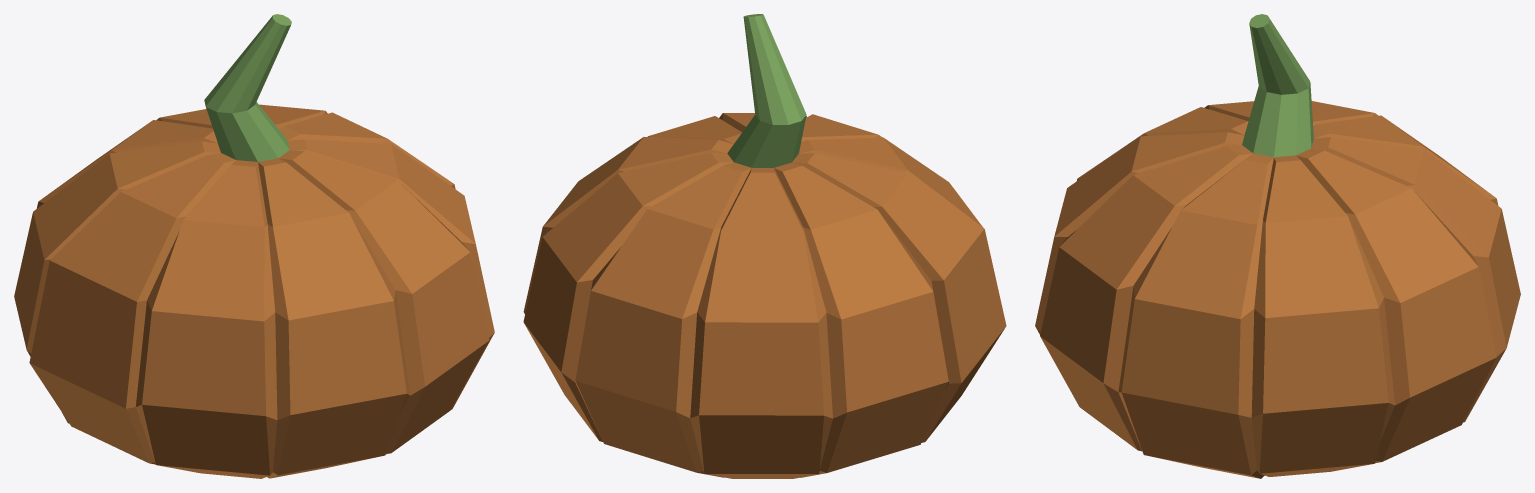
Rendered from Pumpkin_Crop.gltf.
The picture shows the model from 3 angles, left to right: view 1: azimuth 30°, elevation 25°; view 2: azimuth 150°, elevation 25°; view 3: azimuth 270°, elevation 25°; orthographic projection. The views are drawn at different scales.
Visible parts, largest first — view 1: Pumpkin_Crop; view 2: Pumpkin_Crop; view 3: Pumpkin_Crop.
Part boxes in pixels (box(x1,y1,x2,y2)): Pumpkin_Crop: box(14, 14, 494, 478); Pumpkin_Crop: box(523, 14, 1006, 478); Pumpkin_Crop: box(1035, 14, 1520, 478).
Bounding box in the file's own units: 0.5875 × 0.5544 × 0.5781.
